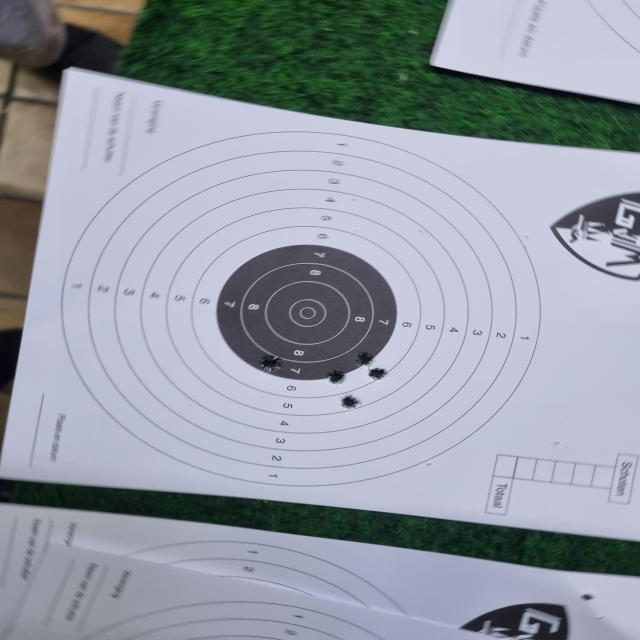5: (341, 394, 361, 409)
6: (369, 368, 388, 380)
7: (325, 369, 347, 385), (355, 350, 374, 366)
8: (259, 352, 283, 374)
Target: (61, 130, 542, 487)
black_contour: (215, 245, 398, 381)
